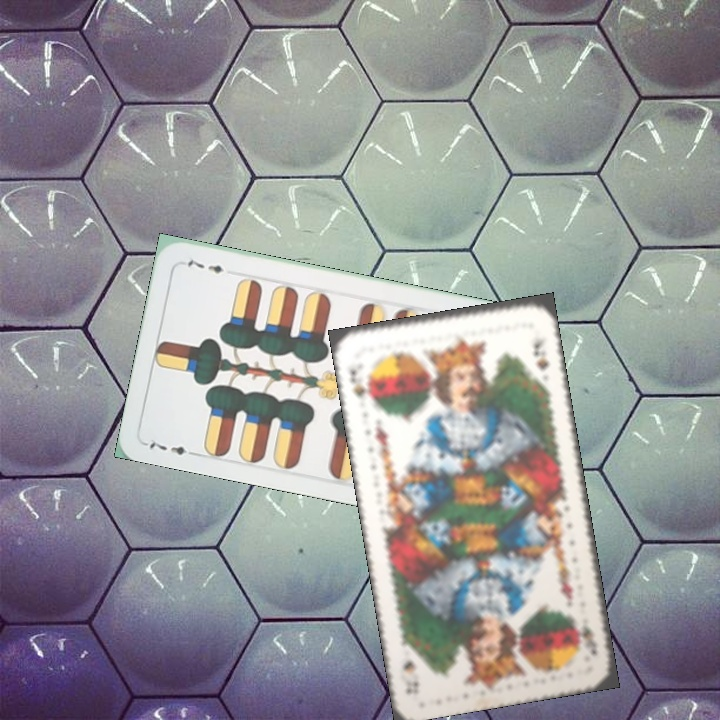E7: (141, 437, 200, 459)
SK: (345, 365, 375, 408), (575, 622, 600, 658)
